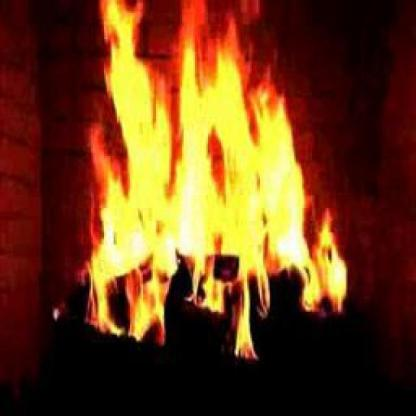fire: (58, 0, 352, 367)
